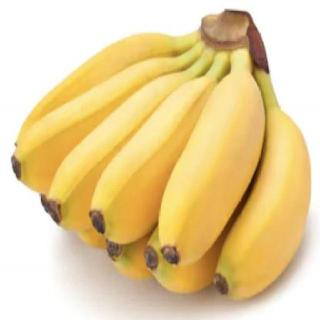banana: (10, 59, 178, 199), (46, 71, 193, 230), (156, 70, 267, 268), (89, 74, 217, 244), (214, 107, 313, 304)
